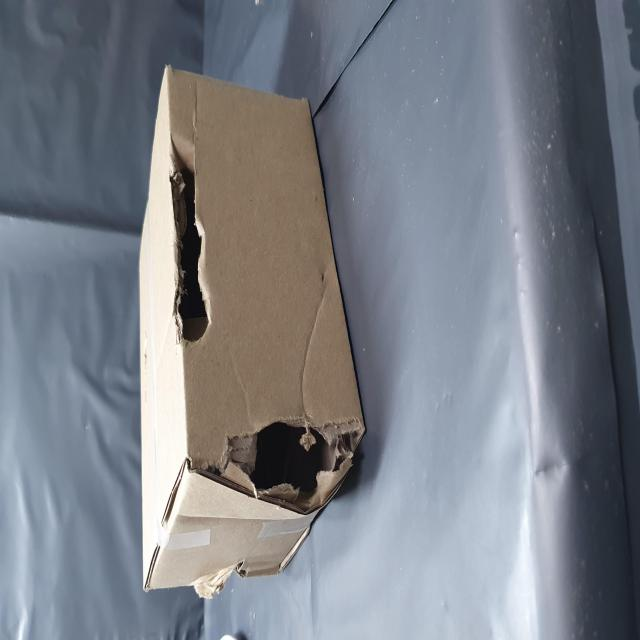damaged: (77, 384, 125, 640), (160, 290, 288, 368)
